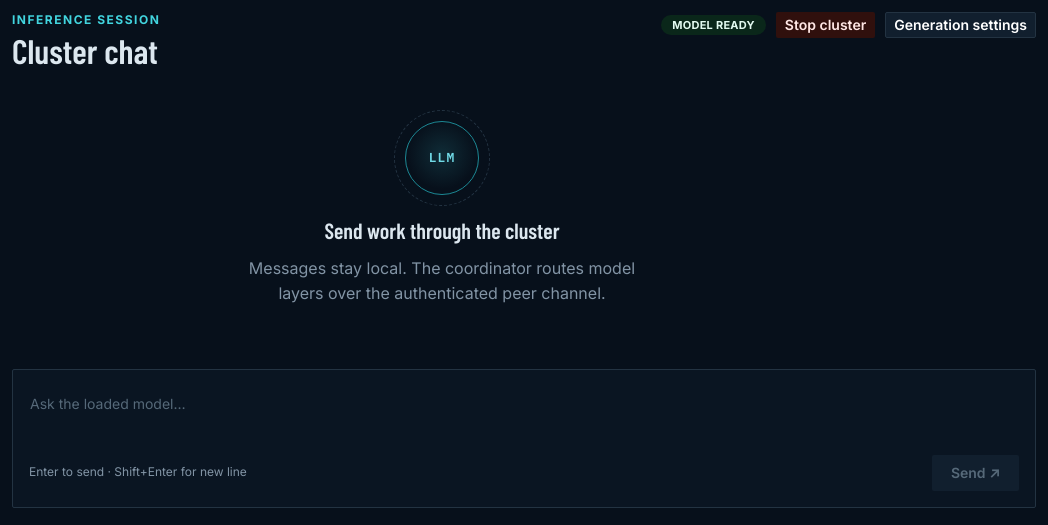
Test: interactive pages › streams tokens into the message as they arrive
This screenshot has width=1048, height=525.
Type "Hi" into the text box named "message".
click(524, 415); type("Hi")  # box [29,386,1019,443]
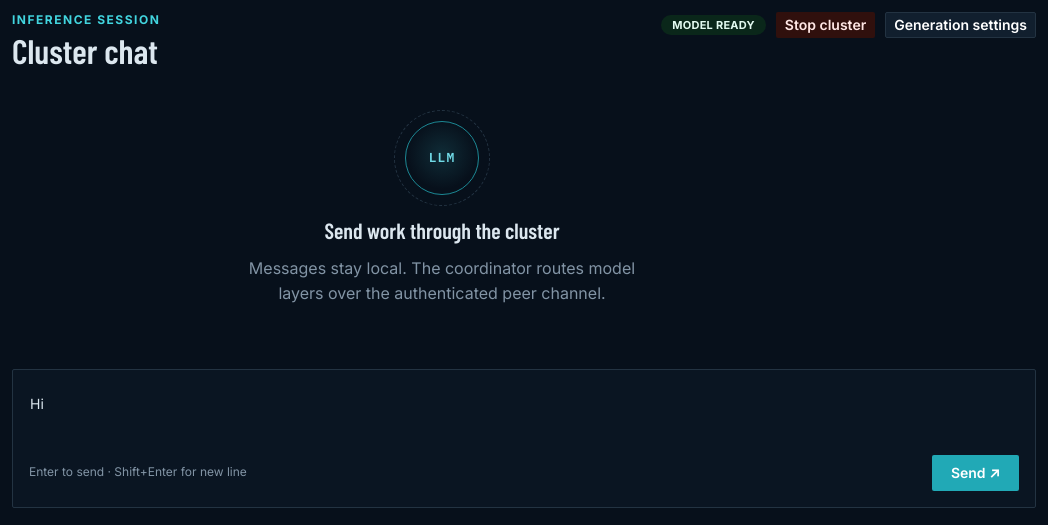
Click the button with aria-label "send message".
click(975, 473)  # box [932,455,1019,491]
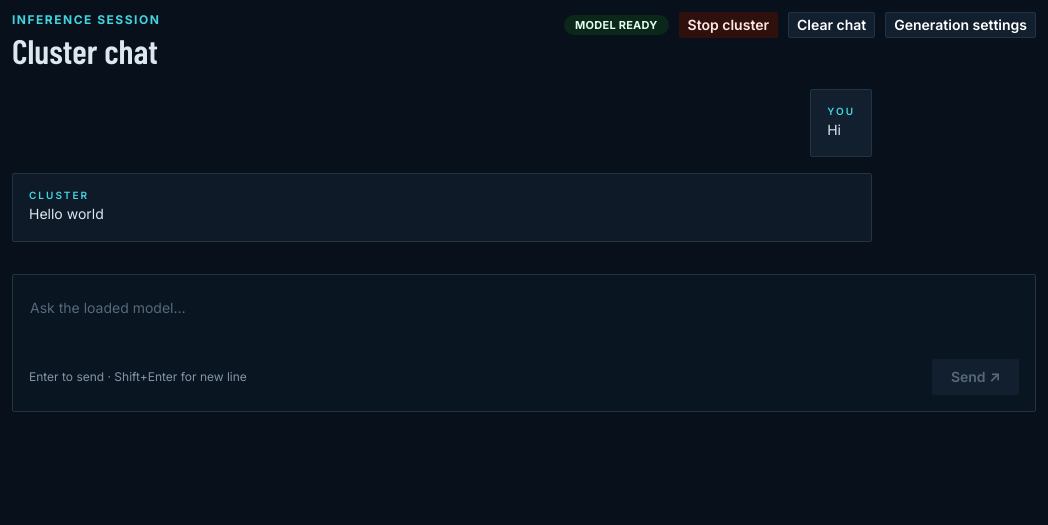
Now the text "Hello world" is shown, box [29,205,104,222]
